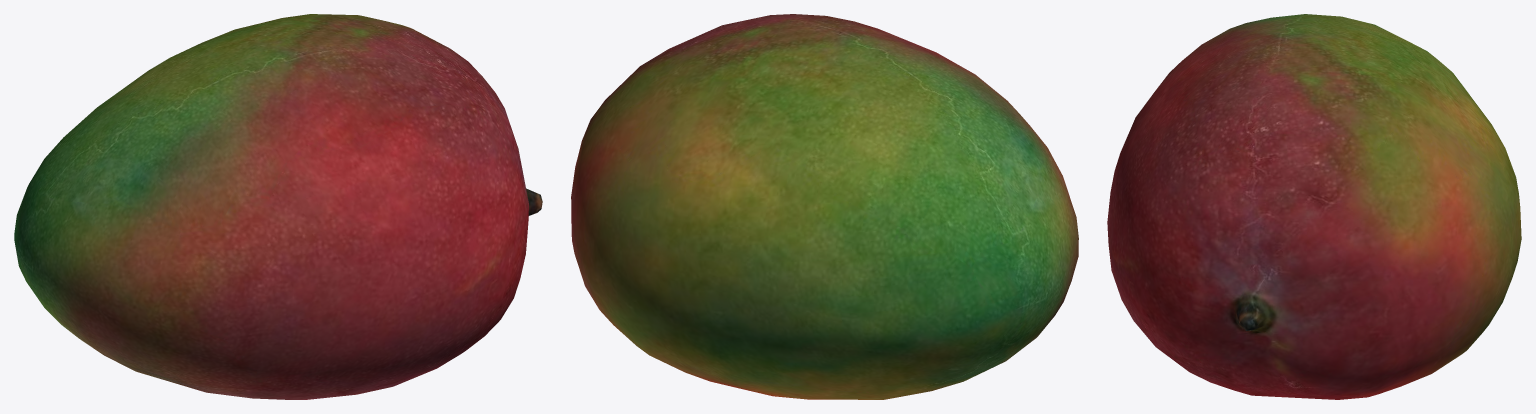
The model's file is 01_mango.glb.
3 renders of one model, left to right at view 1: azimuth 30°, elevation 25°; view 2: azimuth 150°, elevation 25°; view 3: azimuth 270°, elevation 25°, orthographic. The views are drawn at different scales.
Parts seen in each view (by area): view 1: 01_mango; view 2: 01_mango; view 3: 01_mango.
Part boxes in pixels (<box>): 01_mango: <box>14,14,542,399</box>; 01_mango: <box>571,14,1078,399</box>; 01_mango: <box>1107,14,1521,399</box>.
Bounding box in the file's own units: 0.9764 × 0.6801 × 0.7892.
Materials: 1 (1 with a texture image).
